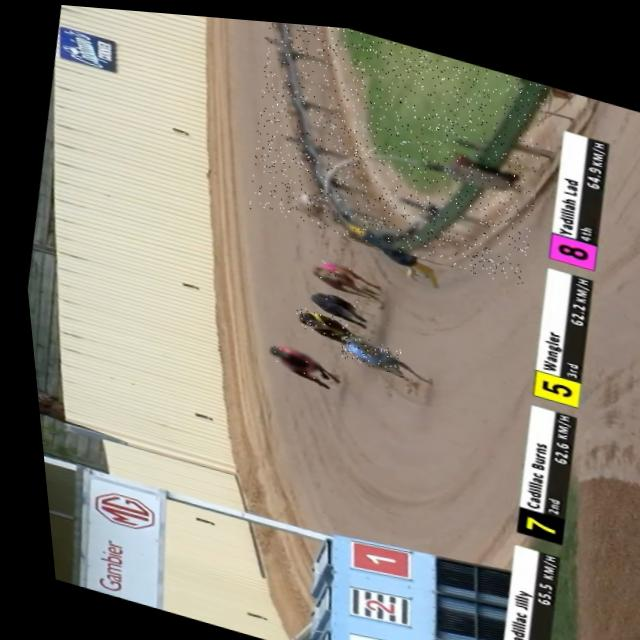dog_eight: (304, 250, 350, 285)
dog_five: (287, 300, 344, 336)
dog_four: (332, 325, 397, 367)
dog_one: (258, 333, 316, 374)
dog_seven: (299, 281, 354, 313)
dog_two: (289, 178, 328, 207)
rail: (275, 18, 546, 244)
